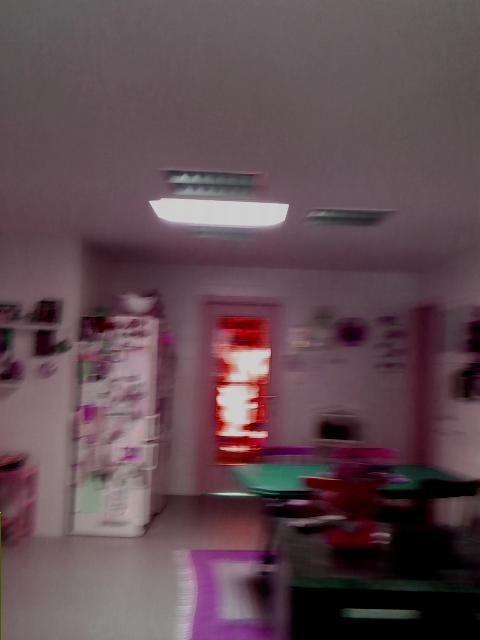semi_door: (188, 291, 285, 497)
